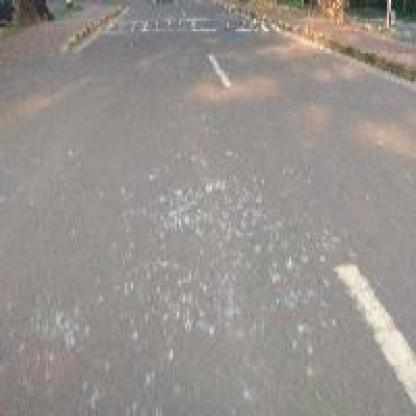Speed Bump: (108, 15, 273, 31)
